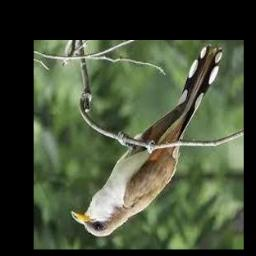Cuckoo: (72, 45, 223, 236)
